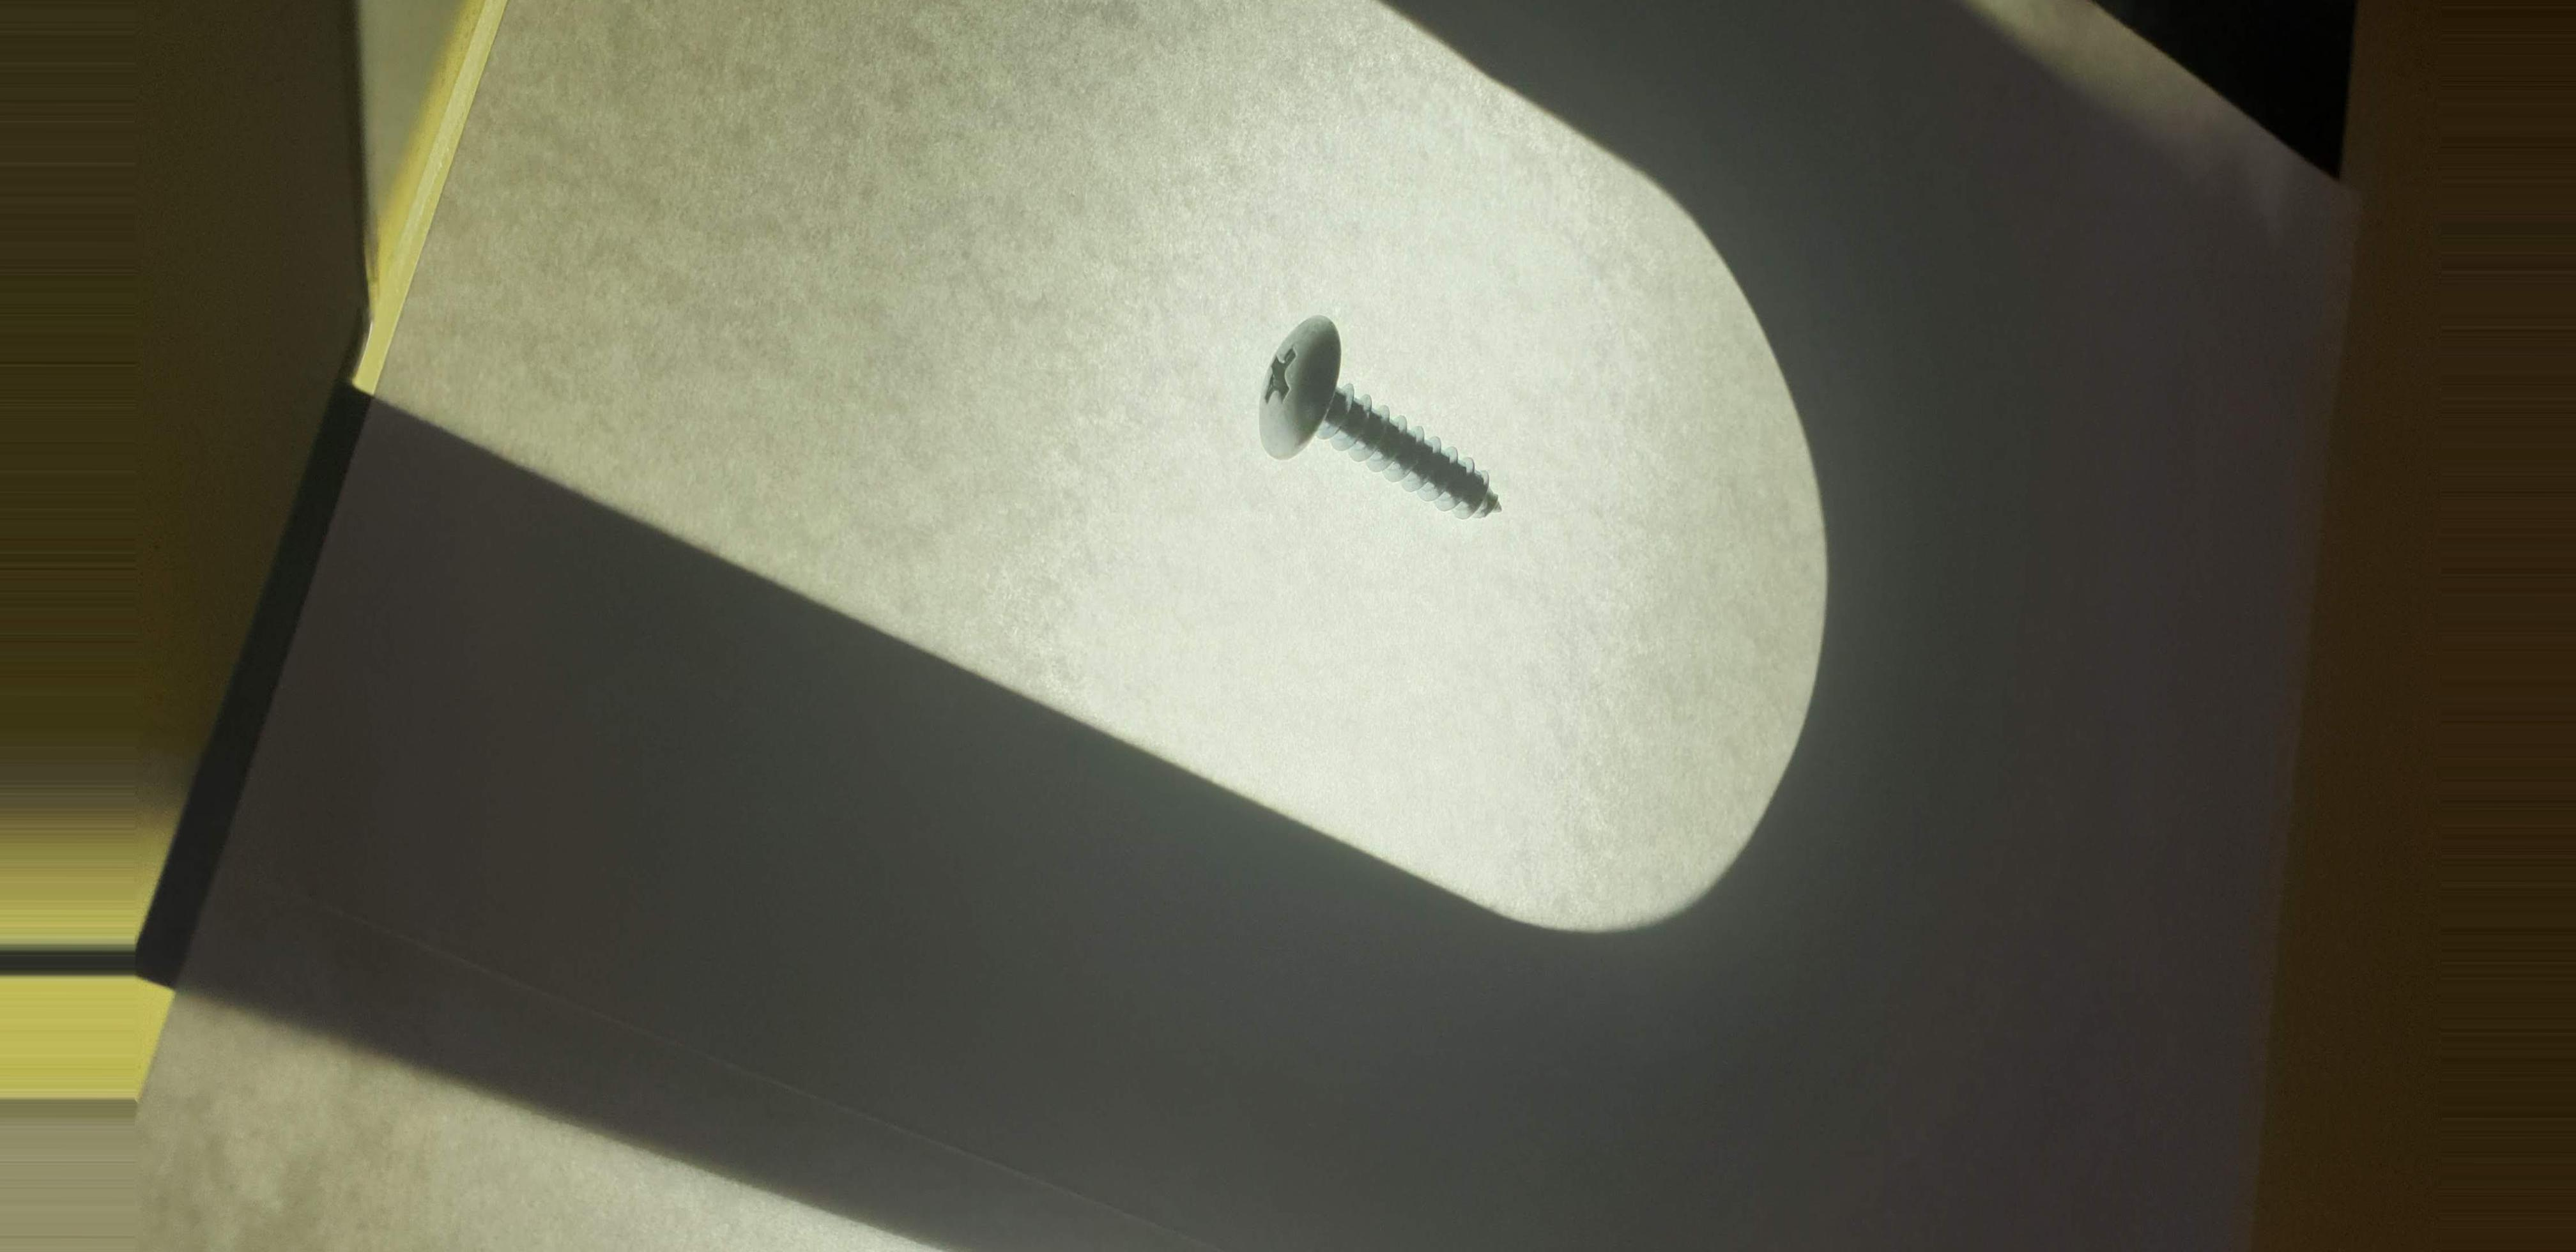S002: (1240, 306, 1539, 545)
